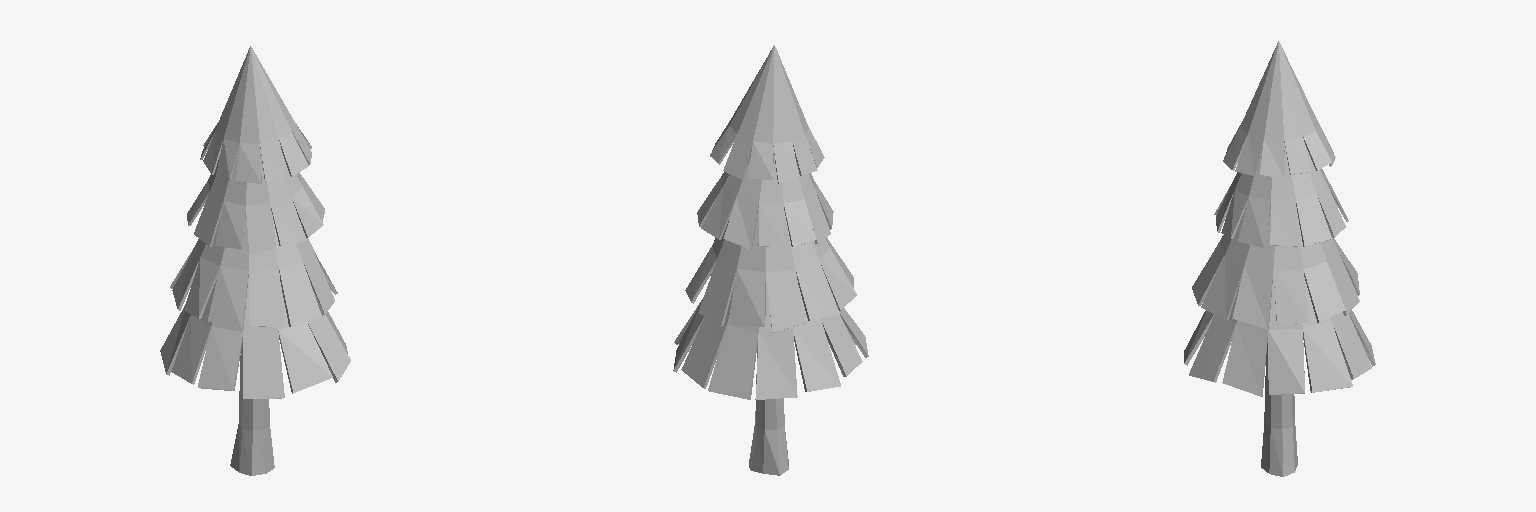
Rendered from tall_pine_tree2.obj.
The picture shows the model from 3 angles: view 1: azimuth 30°, elevation 25°; view 2: azimuth 150°, elevation 25°; view 3: azimuth 270°, elevation 25°; orthographic projection.
Parts seen in each view (by area): view 1: Tree3_3_Cylinder.024; view 2: Tree3_3_Cylinder.024; view 3: Tree3_3_Cylinder.024.
Part boxes in pixels (x1,y1,x2,y2): Tree3_3_Cylinder.024: (160, 46, 350, 475); Tree3_3_Cylinder.024: (673, 45, 868, 475); Tree3_3_Cylinder.024: (1184, 41, 1375, 476).
Bounding box in the file's own units: 2.8 × 6.95 × 2.84.